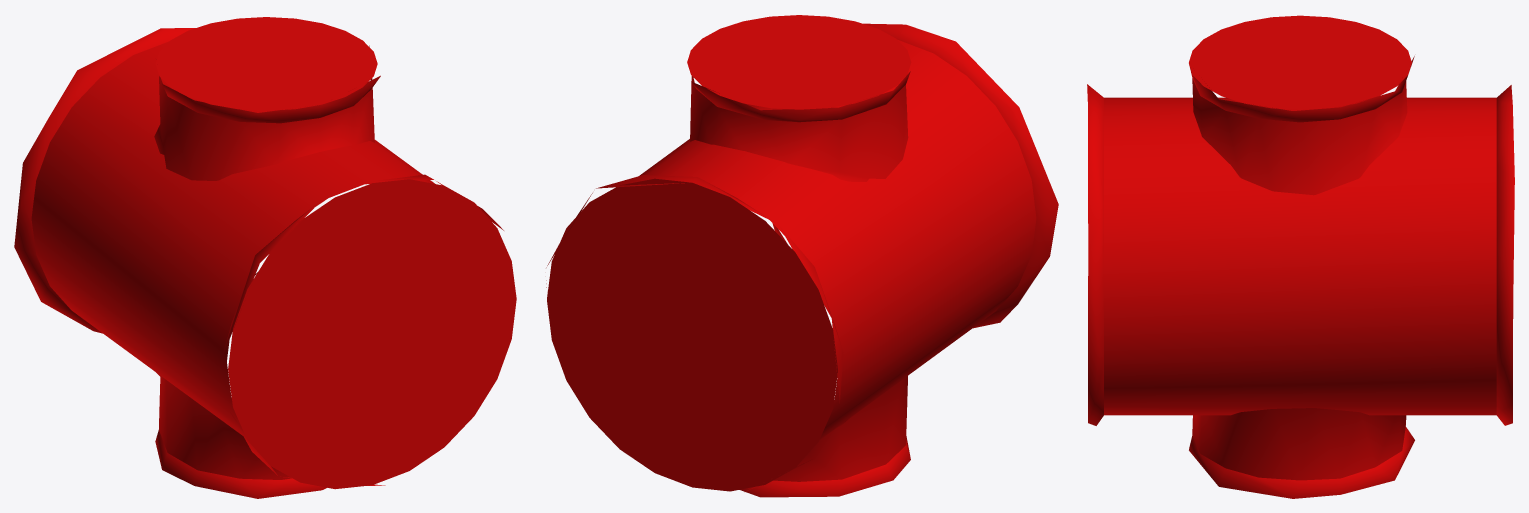
The picture shows the model from 3 angles, left to right: view 1: azimuth 30°, elevation 25°; view 2: azimuth 150°, elevation 25°; view 3: azimuth 270°, elevation 25°; orthographic projection.
Visible parts, largest first — view 1: Mesh; view 2: Mesh; view 3: Mesh.
Boxes of the visible parts, bbox=[...] form: Mesh: bbox=[14, 17, 516, 498]; Mesh: bbox=[546, 15, 1058, 497]; Mesh: bbox=[1087, 15, 1514, 498].
Bounding box in the file's own units: 0.6486 × 0.8083 × 0.8053.
